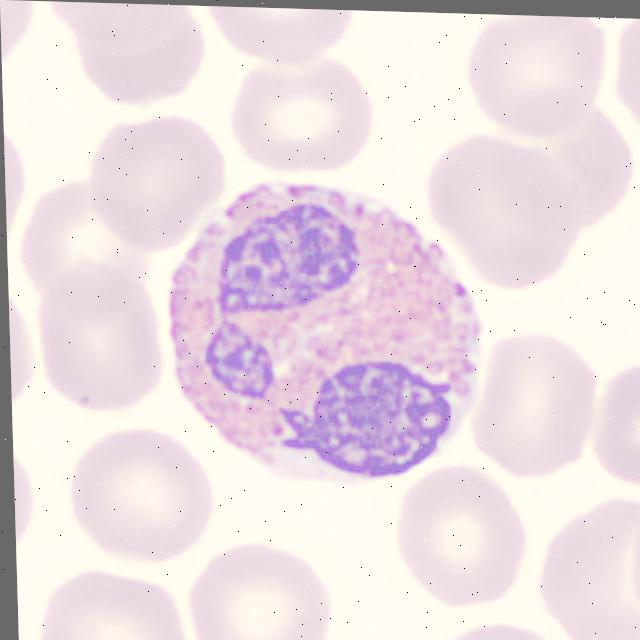eosinophil: (160, 191, 492, 494)
rbc: (438, 140, 597, 288), (72, 115, 228, 265), (469, 16, 638, 129), (385, 476, 526, 602), (26, 265, 145, 414), (18, 181, 157, 304), (93, 436, 221, 565), (535, 484, 640, 640), (484, 340, 593, 472), (64, 2, 193, 101), (195, 552, 335, 640), (246, 66, 359, 168), (28, 566, 178, 640), (214, 6, 359, 78), (53, 2, 192, 65), (4, 123, 44, 271), (434, 615, 633, 640), (0, 0, 44, 91), (13, 438, 43, 571), (9, 283, 33, 431)
